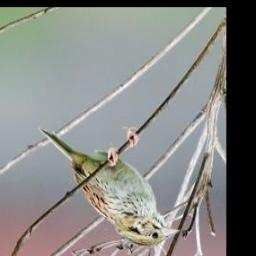Sparrow: (38, 126, 182, 250)
